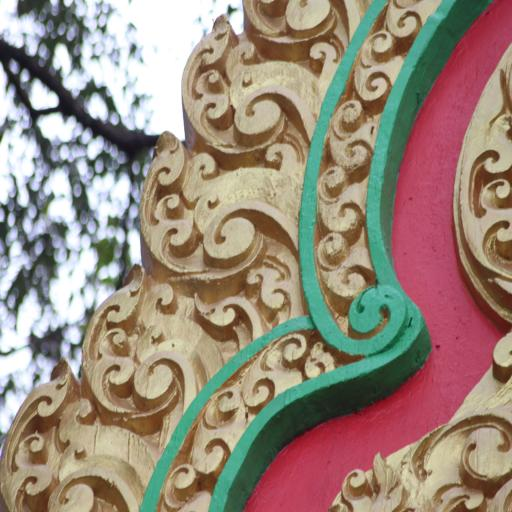lua: (144, 130, 292, 286), (6, 361, 142, 512), (182, 3, 312, 159), (83, 265, 200, 411), (243, 337, 311, 409), (194, 392, 239, 476), (322, 232, 373, 296), (358, 32, 398, 106), (321, 166, 368, 228), (330, 103, 374, 167), (160, 465, 206, 512)
